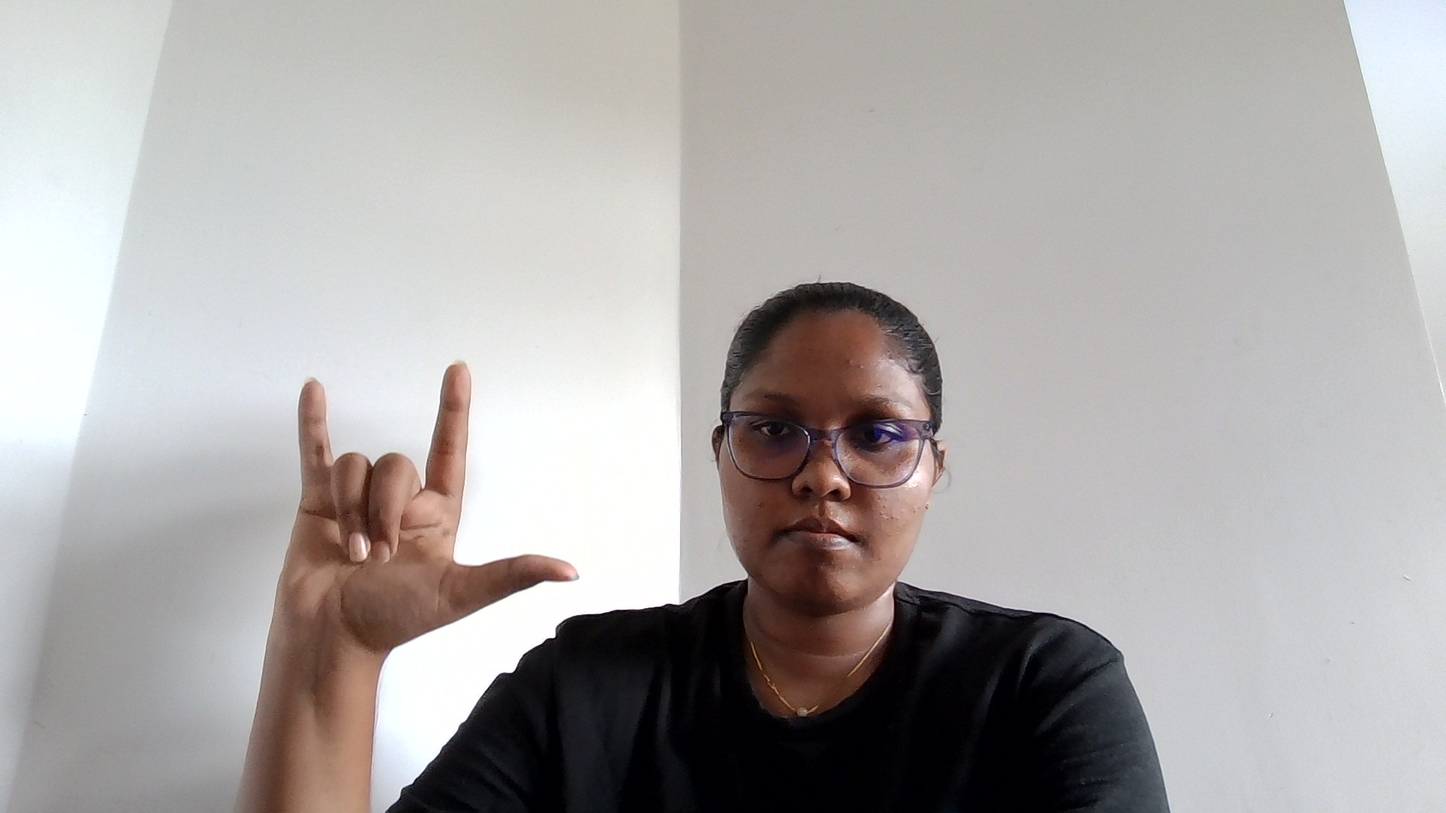I Love You: (222, 309, 567, 700)
